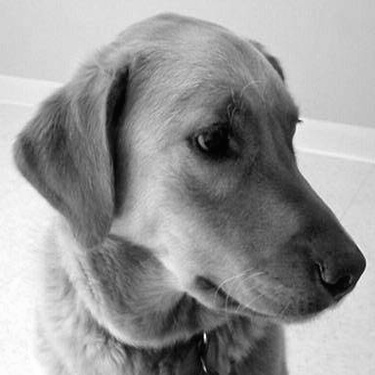dog: (2, 5, 369, 372)
